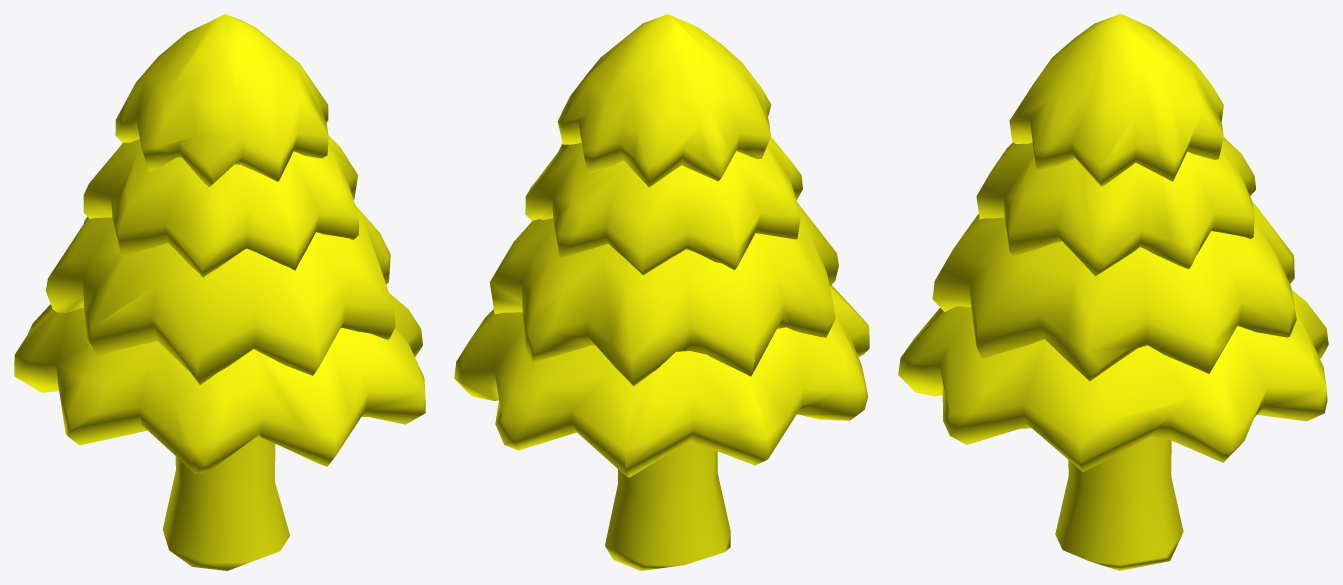
File: conifer.glb
3 views of the same model, side by side, from view 1: azimuth 30°, elevation 25°; view 2: azimuth 150°, elevation 25°; view 3: azimuth 270°, elevation 25° (orthographic).
Parts seen in each view (by area): view 1: Sphere.003, Cylinder; view 2: Sphere.003, Cylinder; view 3: Sphere.003, Cylinder.
Part boxes in pixels (<box>): Sphere.003: <box>14,14,425,474</box>; Cylinder: <box>162,436,290,570</box>; Sphere.003: <box>454,14,869,477</box>; Cylinder: <box>605,441,730,570</box>; Sphere.003: <box>898,14,1328,472</box>; Cylinder: <box>1055,436,1183,570</box>.
Size of the model in its own units: 3.01 by 4.35 by 3.16.
Materials: 1 (1 with a texture image).
